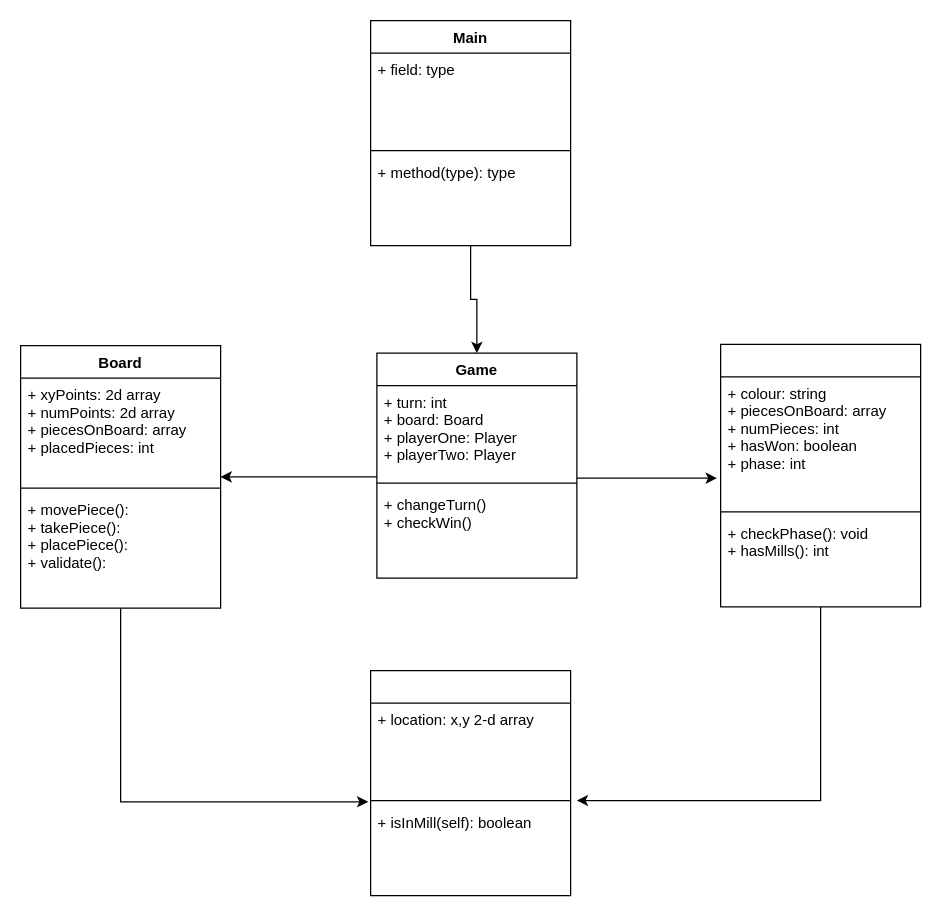
Some shapes in this 941 by 916 pixel diagram are drawn without their labels. The shapes that lost their labels are listed below. From the top down, each one's box as (x1, y1, x2, y2) in pixels, then its label:
(719, 343, 921, 607): Player
(369, 669, 571, 896): Piece
